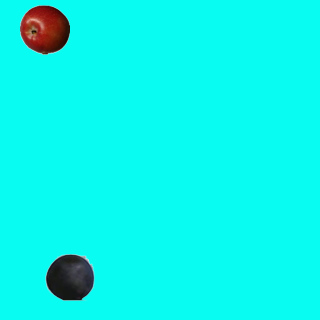Apple Braeburn: (19, 4, 69, 54)
Grape Blue: (44, 251, 94, 301)
